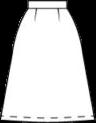Hemline: (0, 119, 95, 122)
Waistline: (28, 7, 66, 9), (27, 0, 66, 1)
